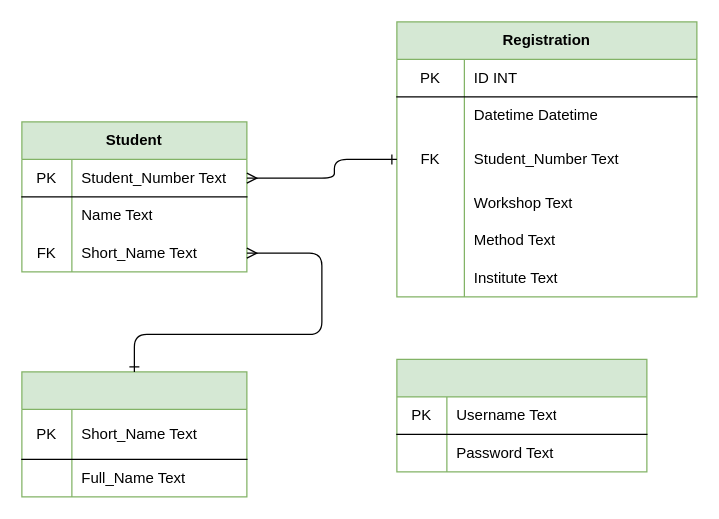
This 719x519 diagram has some shape labels left out. The shapes that lost their labels are listed below. From the top down, each one's box as (x1, y1, x2, y2) in pixels, then its label:
(21, 371, 247, 497): Institute
(396, 358, 647, 472): Users
